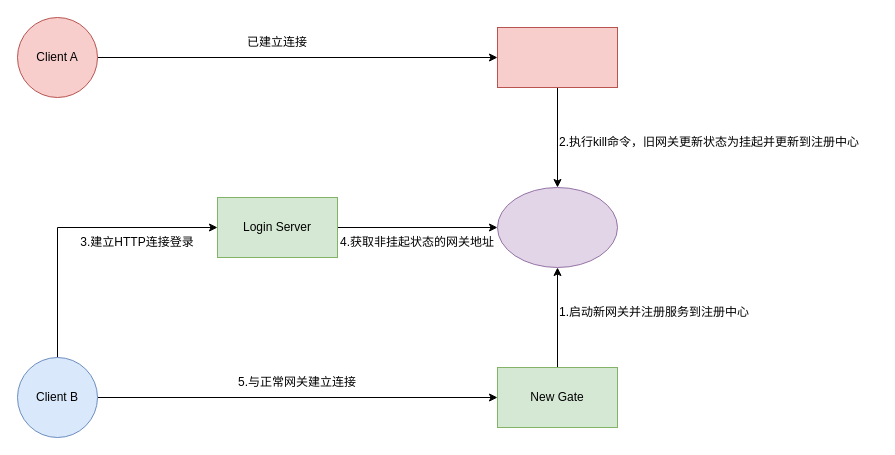
Image size: 895x455. Some labels were removed from this diagram. Each missing label, with the centre of its shape:
"Old Gate" goes at point 557,57.
"Registry" goes at point 557,227.
